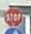stop: (4, 7, 23, 26)
